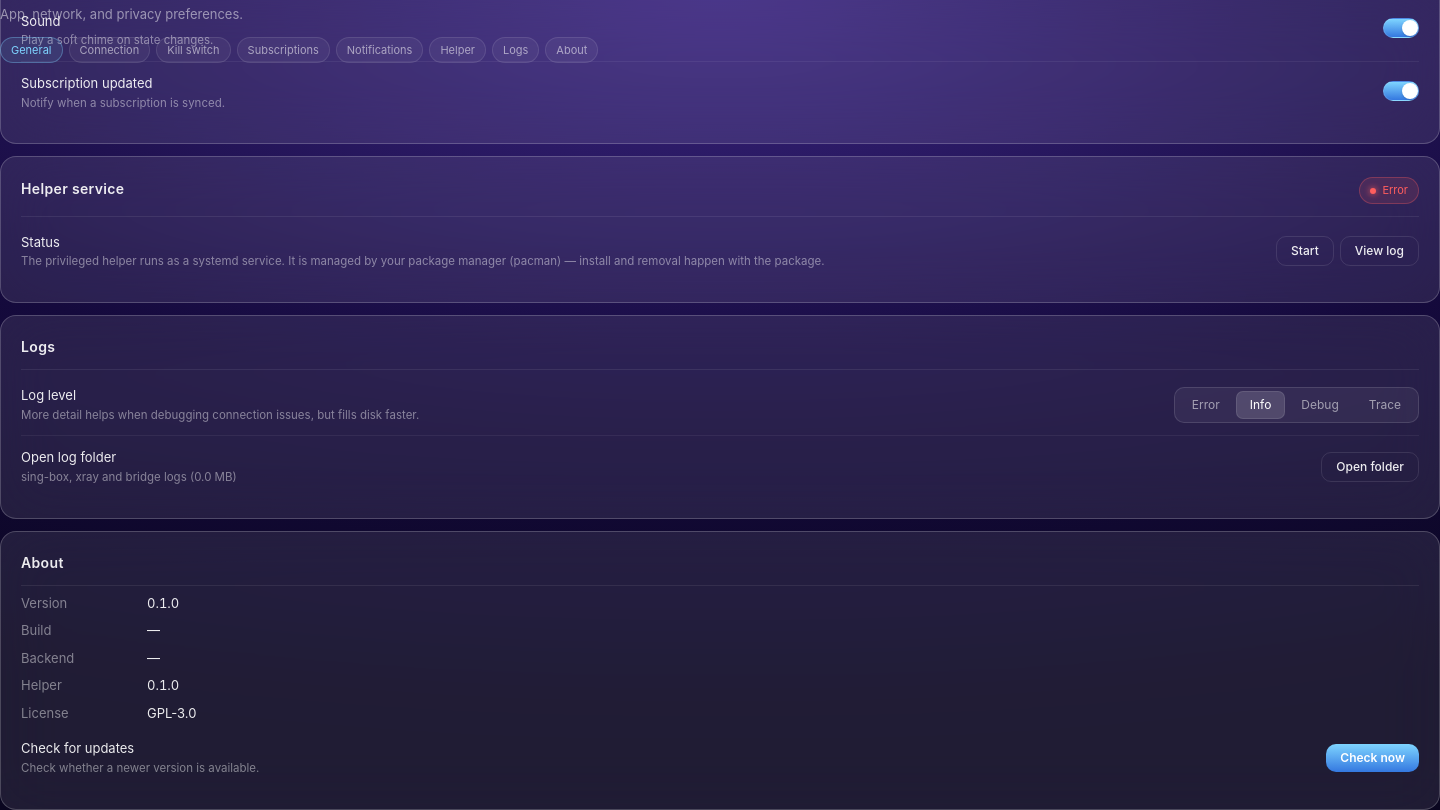
Test: Settings — Update check › AUR/package-managed installs show "Open releases page" + a pacman hint instead of Download
(page scrolled)
Click the button "Check now".
click(1373, 758)  # box [1326,744,1419,772]
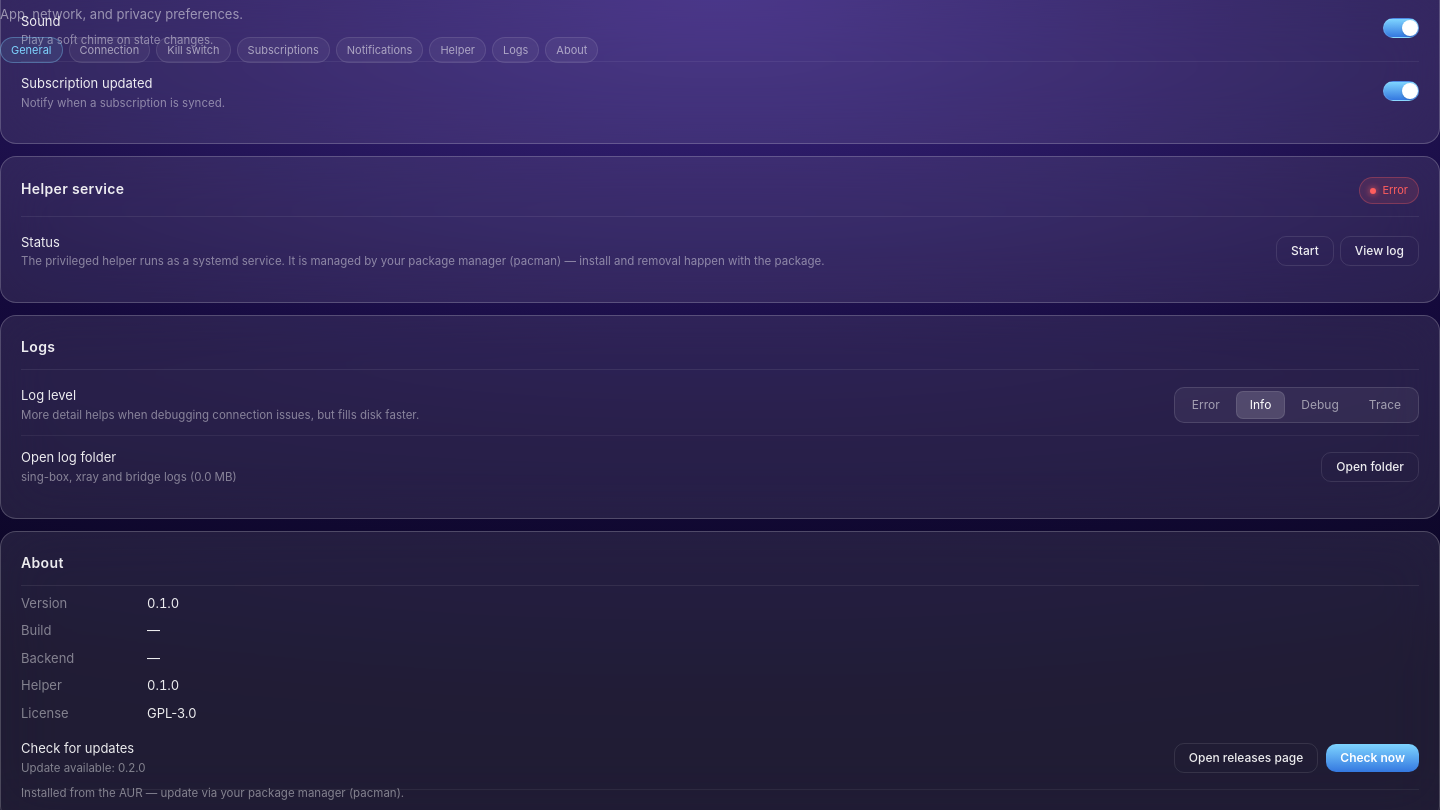
Now the button "Open releases page" is shown, box [1174,743,1318,773]
Now the text "Installed from the AUR" is shown, box [21,786,404,800]
